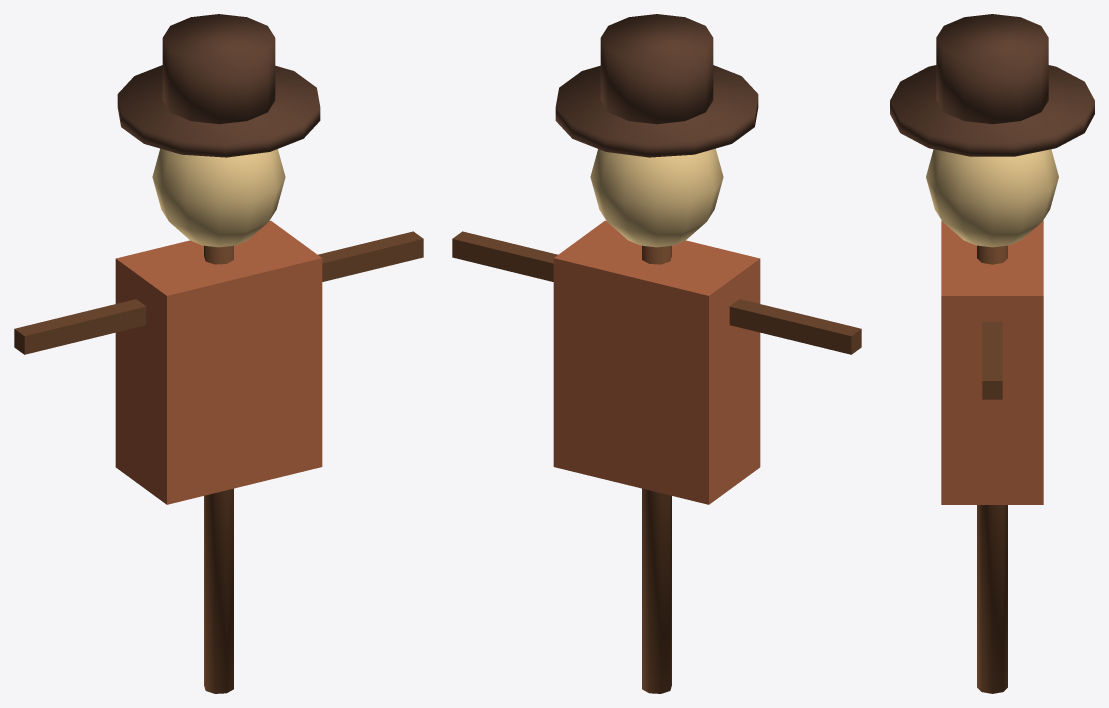
File: scarecrow.glb
3 renders of one model, left to right at view 1: azimuth 30°, elevation 25°; view 2: azimuth 150°, elevation 25°; view 3: azimuth 270°, elevation 25°, orthographic.
Parts seen in each view (by area): view 1: scarecrow; view 2: scarecrow; view 3: scarecrow.
Part boxes in pixels (left/top/right/bottom): scarecrow: left=14, top=14, right=423, bottom=693; scarecrow: left=452, top=14, right=861, bottom=693; scarecrow: left=890, top=14, right=1094, bottom=693.
Bounding box in the file's own units: 1.8 × 2.8 × 0.8.
